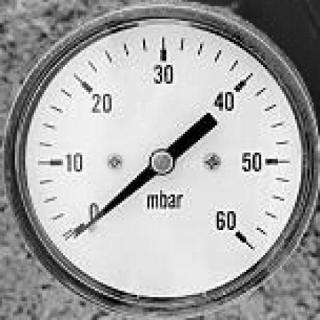gauge: (0, 0, 320, 320), (59, 198, 109, 250), (209, 208, 256, 259), (148, 148, 176, 176), (70, 226, 90, 243)
